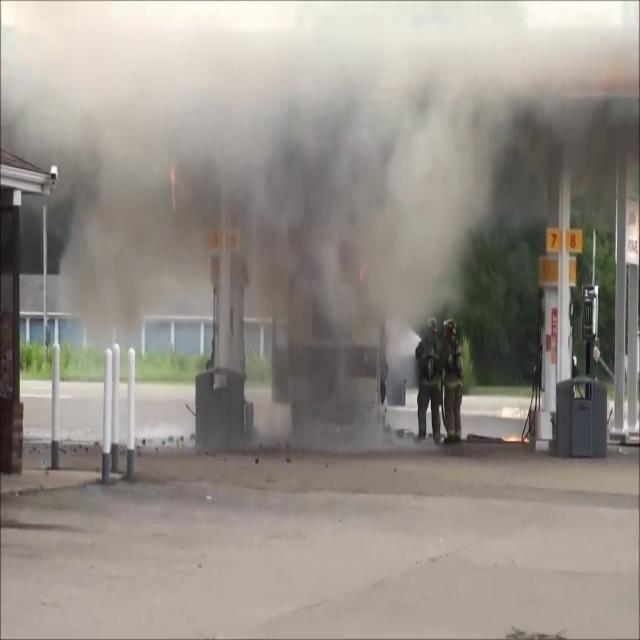Smoke: (29, 2, 633, 390)
